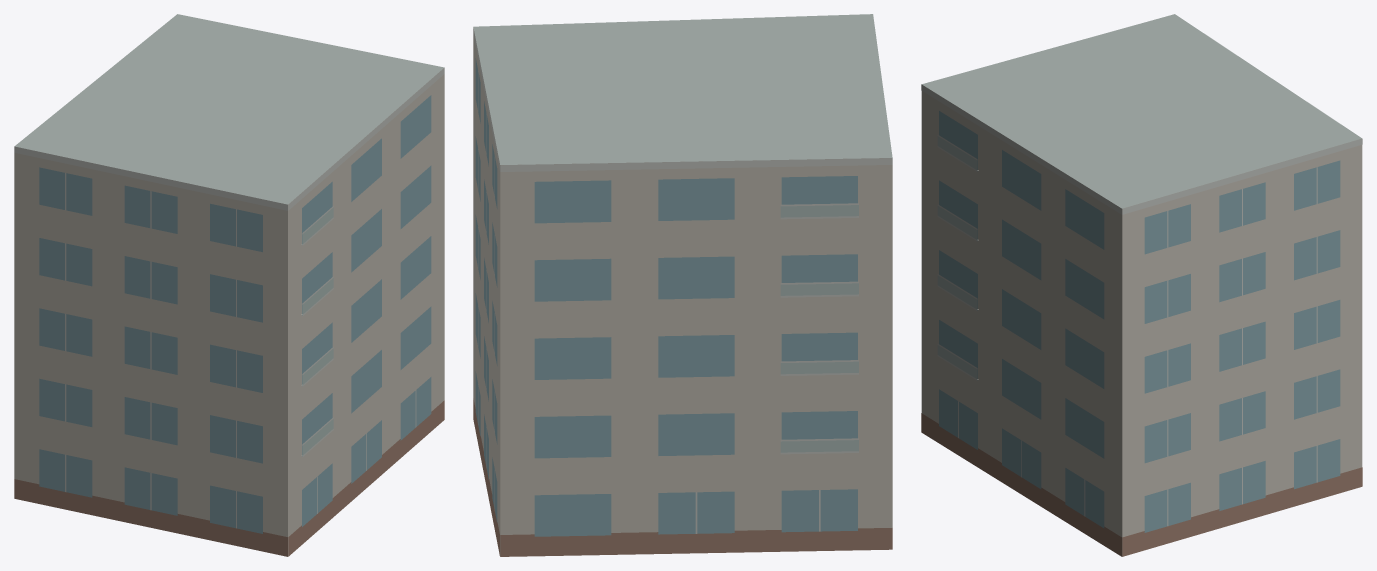
Rendered from survey-upis-32887574.glb.
3 views of the same model, side by side, from view 1: azimuth 30°, elevation 25°; view 2: azimuth 150°, elevation 25°; view 3: azimuth 270°, elevation 25° (orthographic). The views are drawn at different scales.
Parts seen in each view (by area): view 1: survey-upis-32887574.tmp; view 2: survey-upis-32887574.tmp; view 3: survey-upis-32887574.tmp.
Boxes of the visible parts, left/top/right/bottom form: survey-upis-32887574.tmp: left=14, top=14, right=444, bottom=556; survey-upis-32887574.tmp: left=473, top=14, right=892, bottom=556; survey-upis-32887574.tmp: left=921, top=14, right=1362, bottom=556.
Size of the model in its own units: 16.44 by 13.7 by 15.73.
